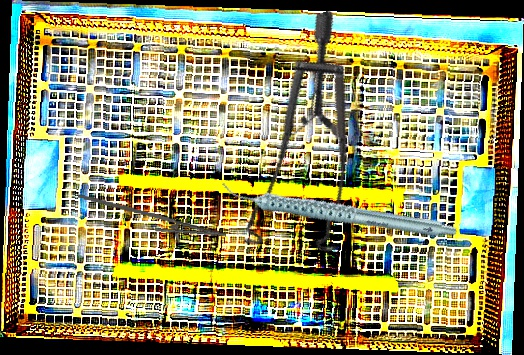Handpiece: (218, 134, 460, 284)
Needle Holder: (73, 193, 229, 249)
Speculum: (181, 9, 407, 277)
